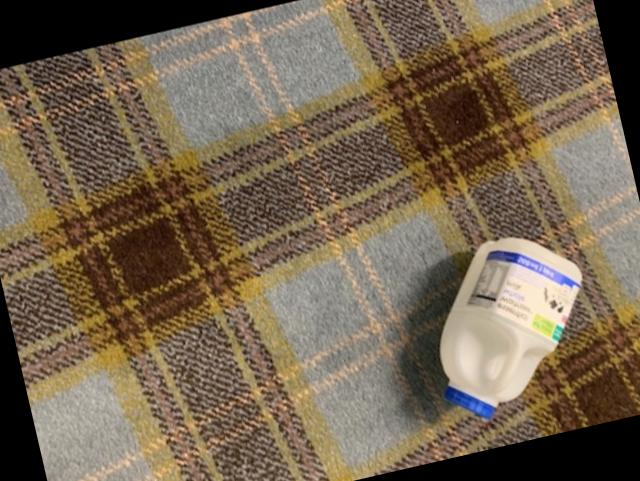plastic: (438, 240, 578, 419)
